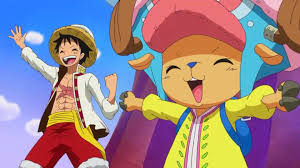chopper: (109, 1, 300, 110)
luffy: (47, 24, 100, 74)
